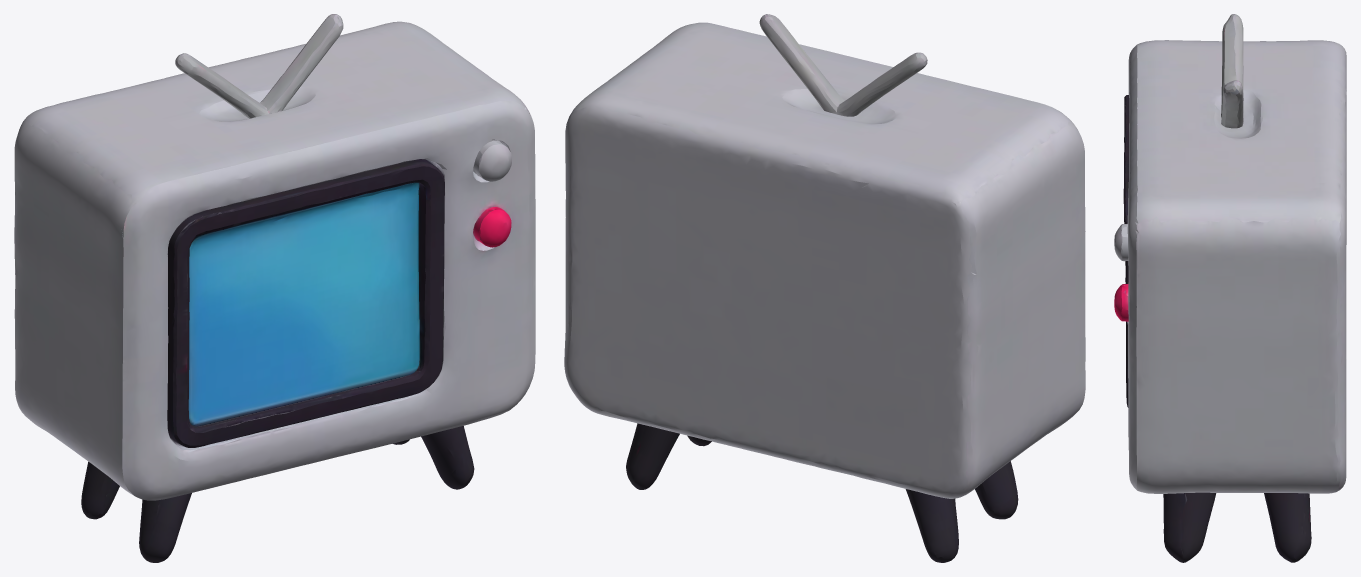
The model's file is television.glb.
3 views of the same model, side by side, from view 1: azimuth 30°, elevation 25°; view 2: azimuth 150°, elevation 25°; view 3: azimuth 270°, elevation 25° (orthographic). The views are drawn at different scales.
Visible parts, largest first — view 1: Mesh; view 2: Mesh; view 3: Mesh.
Part boxes in pixels (bbox=[...]): Mesh: bbox=[14, 14, 535, 562]; Mesh: bbox=[564, 14, 1085, 562]; Mesh: bbox=[1114, 14, 1346, 562].
Size of the model in its own units: 0.9124 by 1 by 0.4806.
Materials: 1 (1 with a texture image).
